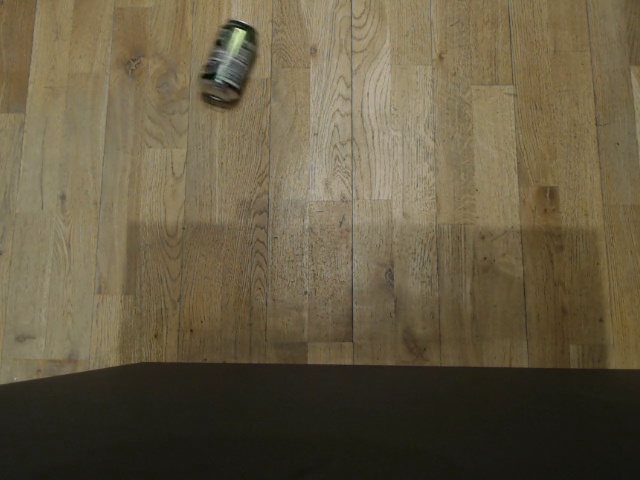beer: (196, 19, 258, 110)
